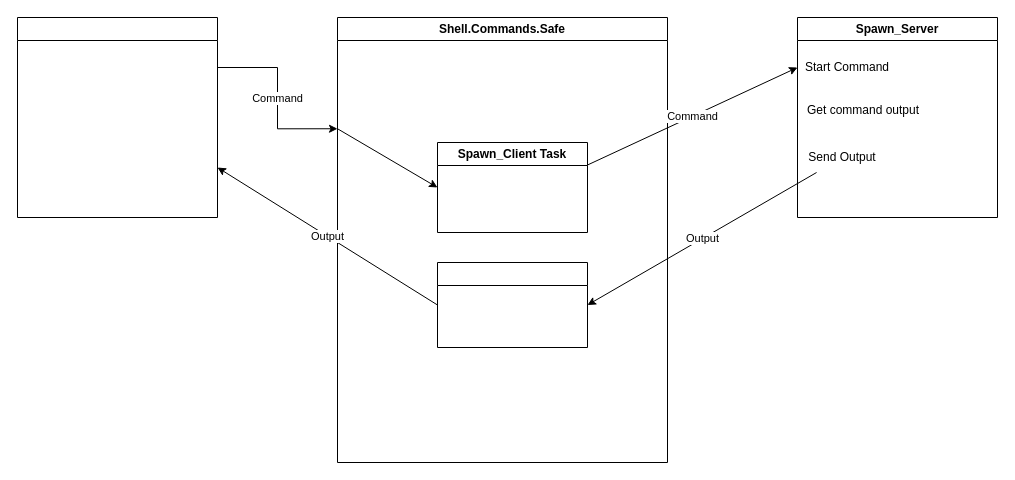
Some shapes in this 1015 by 480 pixel diagram are drawn without their labels. Here are the shapes that lost their labels. From the top down, the centre of each, then its label:
point 117,117: User Application
point 512,305: Protected Output
